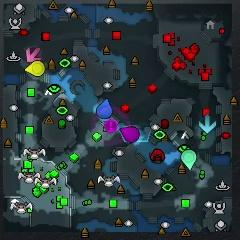Other: (103, 119, 119, 133)
p1: (97, 99, 113, 119)
p2: (181, 150, 197, 171)
p3: (120, 127, 140, 142)
p4: (24, 60, 45, 76)
x1: (25, 48, 42, 62)
x3: (199, 115, 216, 133)
